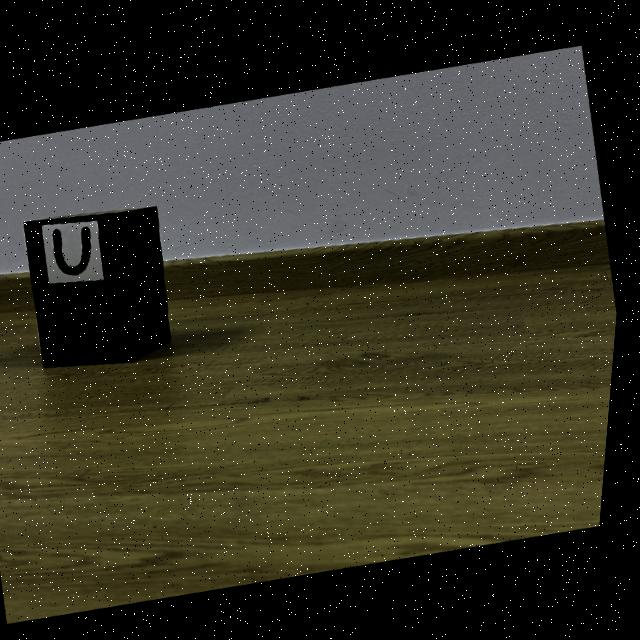U: (56, 225, 95, 274)
